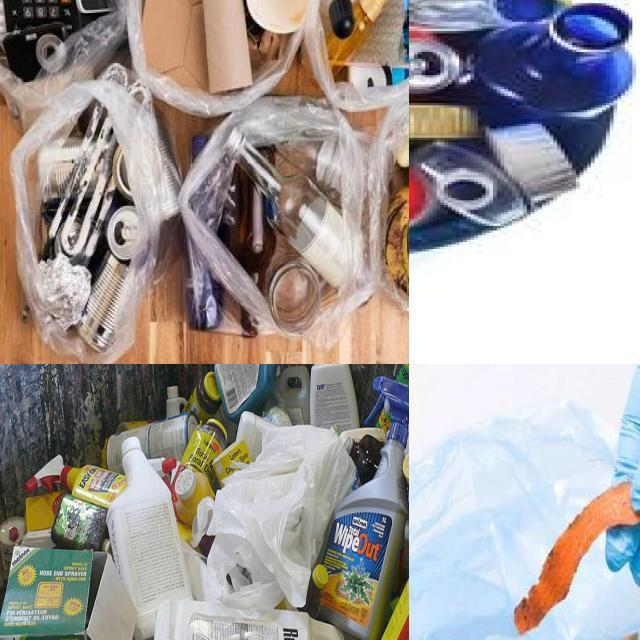E-Waste: (3, 0, 100, 81)
Garbage: (0, 364, 409, 640), (192, 111, 376, 338), (16, 94, 162, 356), (136, 0, 315, 110), (309, 0, 409, 111)
Glass_bottle: (180, 97, 373, 348), (190, 99, 351, 336), (239, 143, 346, 288), (187, 237, 270, 335), (268, 259, 320, 333), (181, 419, 228, 485), (340, 432, 384, 484), (185, 371, 221, 423)
Metal: (38, 101, 139, 339), (104, 67, 152, 111), (159, 128, 181, 221)
Plastic: (305, 0, 409, 112)
Plastic_Bag: (207, 425, 354, 610)
Plastic_Container: (320, 375, 409, 640), (107, 436, 192, 640), (25, 455, 126, 508), (215, 364, 277, 422), (310, 364, 359, 432), (174, 468, 215, 526), (276, 366, 310, 425), (300, 565, 329, 618), (166, 387, 187, 419), (148, 457, 177, 478), (379, 411, 389, 431)
Tin_box: (106, 413, 198, 473), (50, 495, 107, 551)
contaminated_waste: (11, 0, 375, 364), (409, 0, 640, 250), (409, 0, 633, 254), (231, 127, 357, 331), (34, 109, 139, 353), (344, 62, 409, 99), (320, 0, 356, 37)
top_view_waste: (409, 0, 640, 251)
